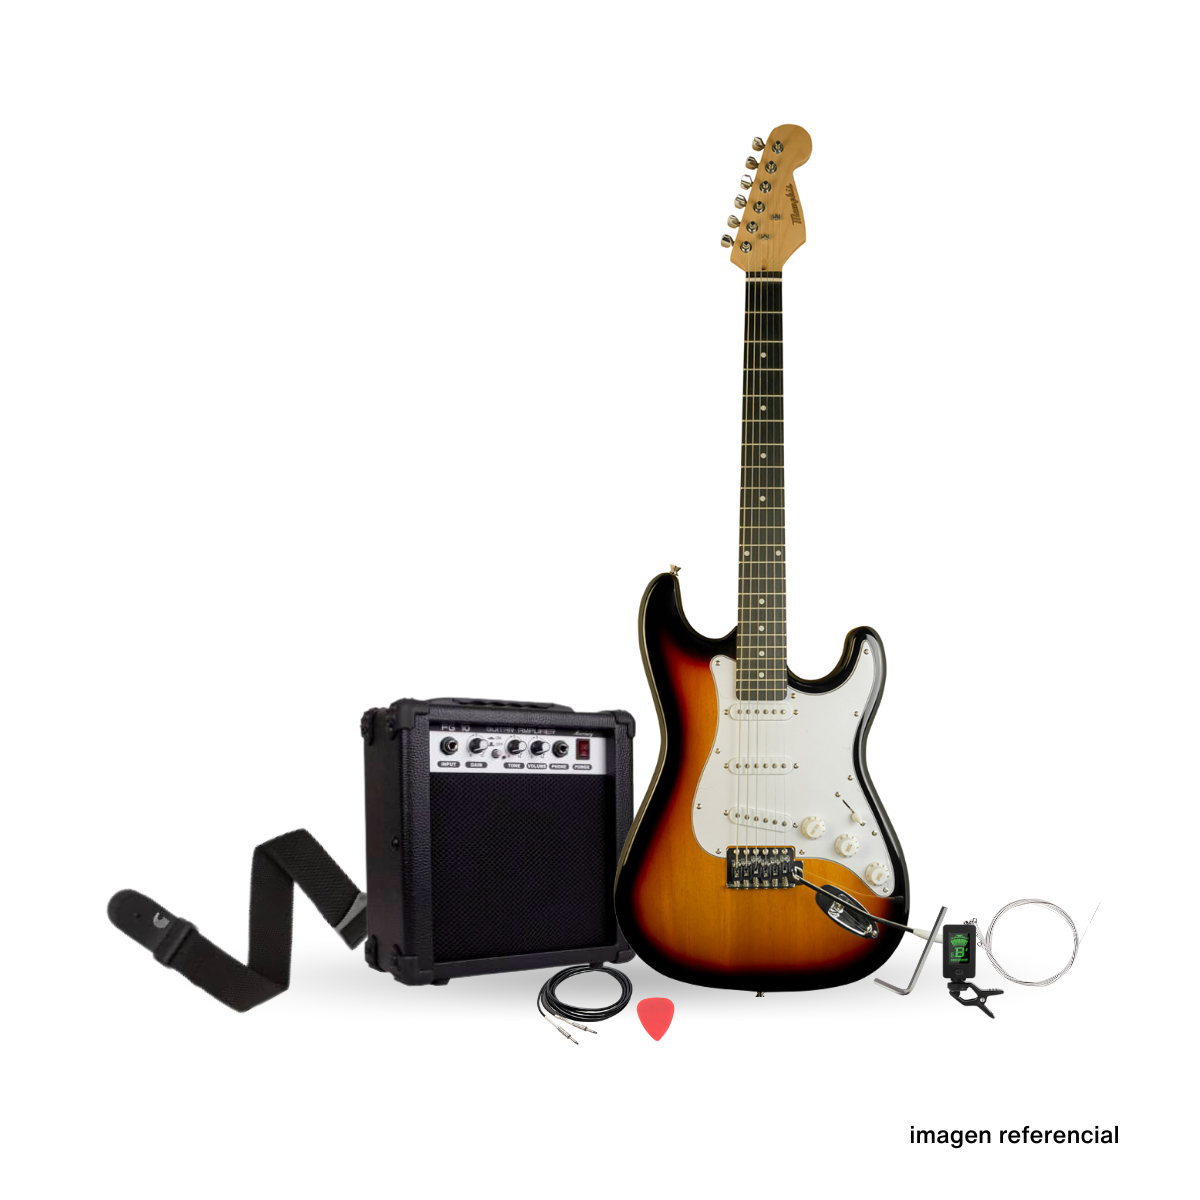guitar: (612, 111, 914, 997)
